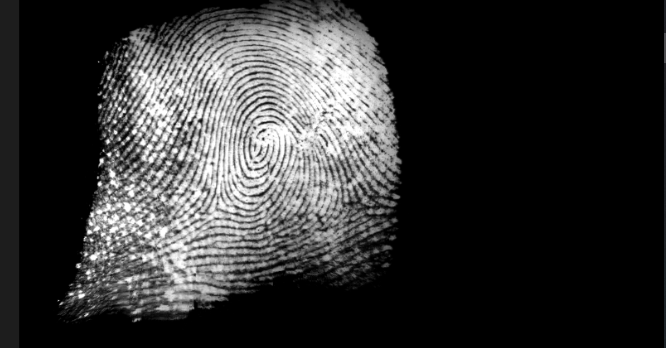nucelo: (248, 126, 283, 165)
verticilo: (196, 191, 239, 217), (337, 189, 376, 212)
